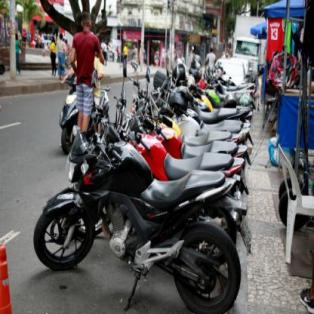Motocicleta: (28, 125, 242, 308)
